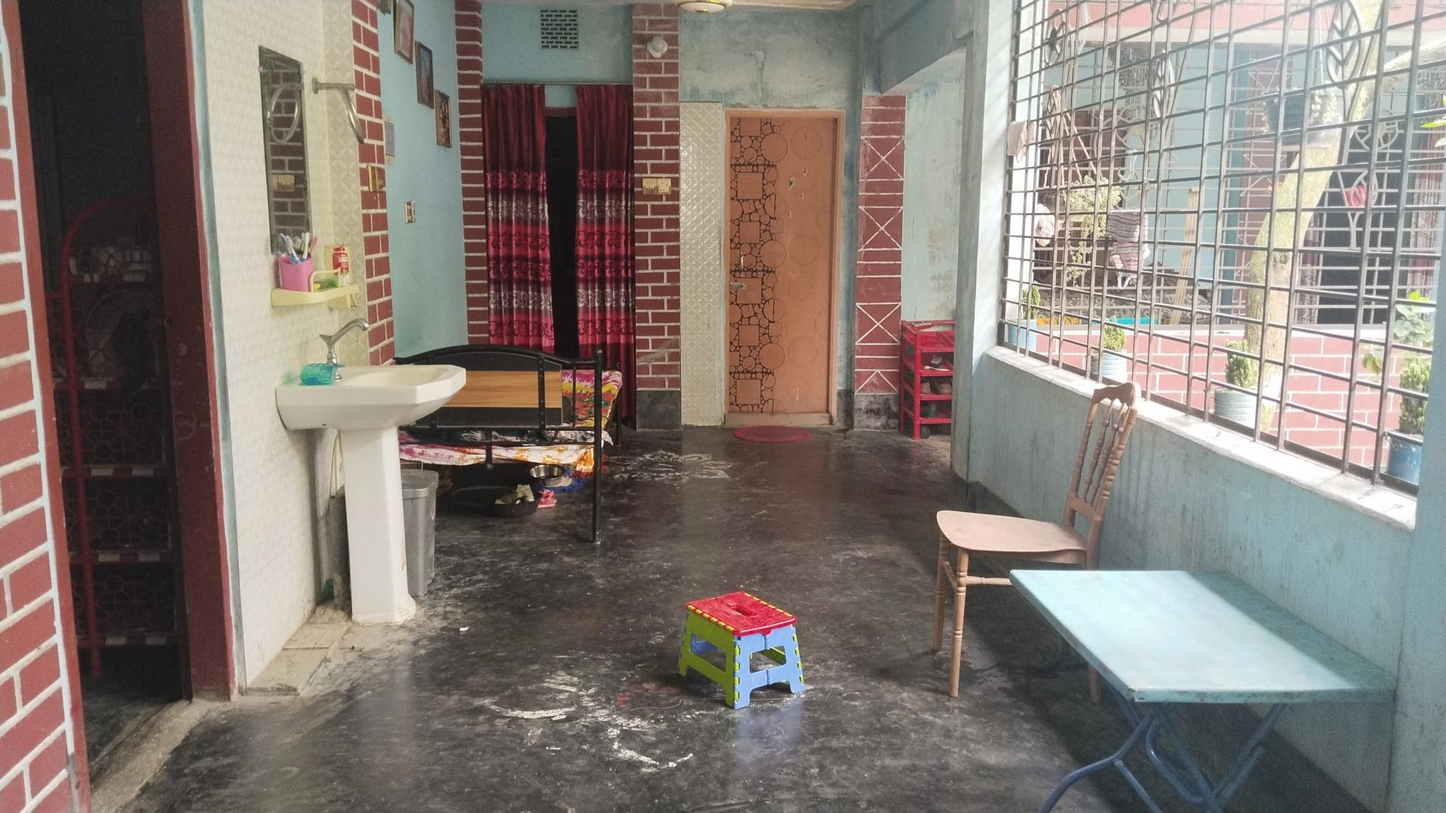Chair: (934, 378, 1135, 700)
Door: (725, 119, 836, 411)
Stool: (681, 591, 806, 703)
Table: (1006, 572, 1402, 813)
